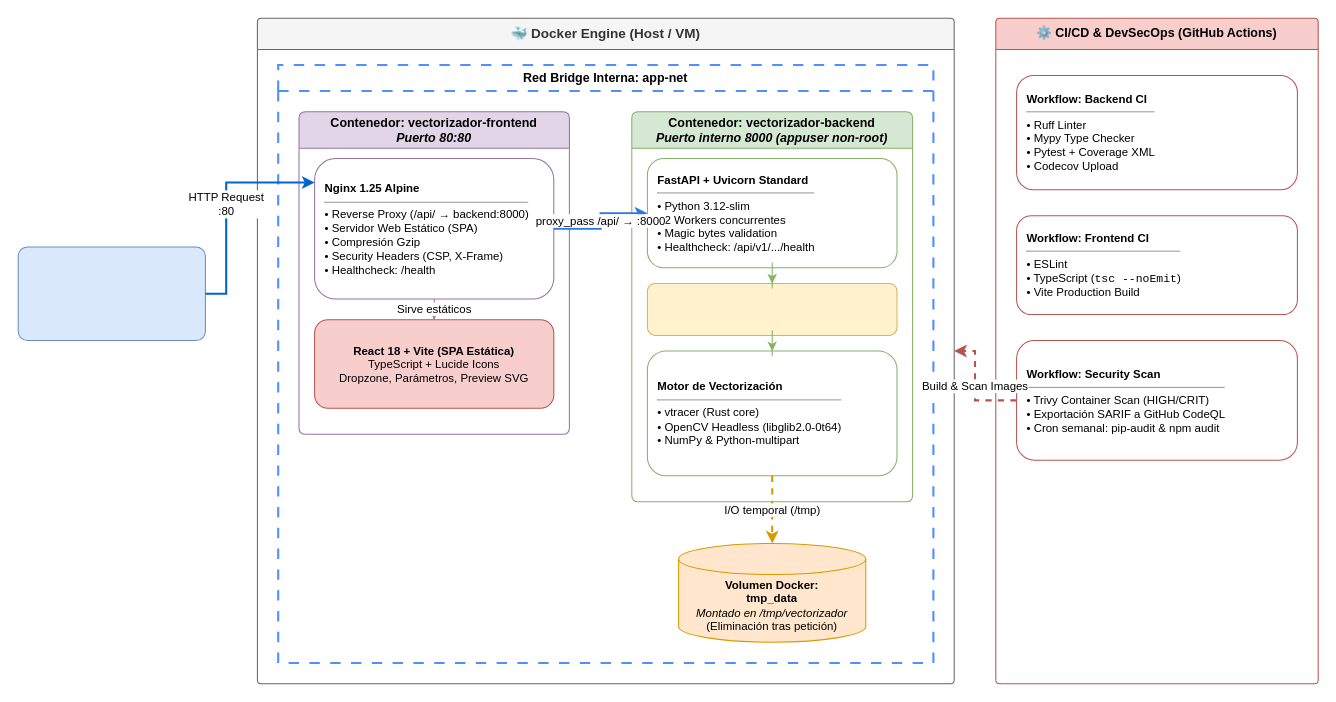
Some shapes in this 1336 by 702 pixel diagram are drawn without their labels. Each missing label, with the centre of its shape:
"SlowAPI Rate Limiter 20 requests / minuto por IP" belongs at point (771, 308).
"🌐 Navegador / Usuario Web Interfaz Web Vectorizador SVG" belongs at point (111, 293).
